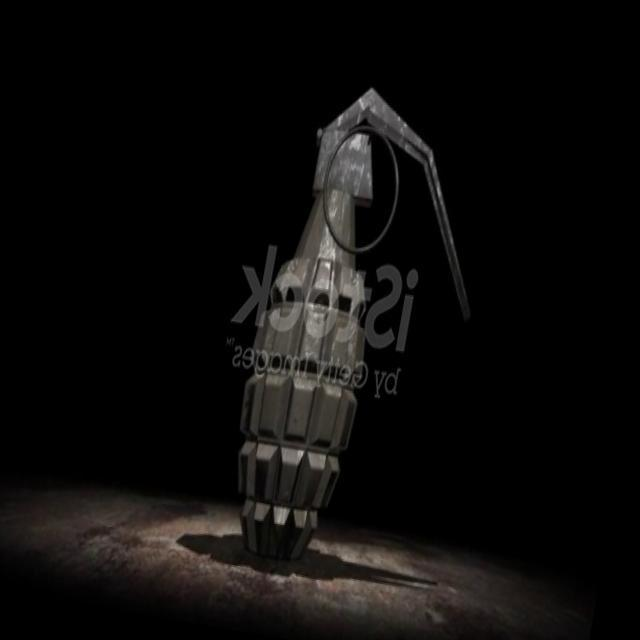grenade: (214, 82, 501, 573)
